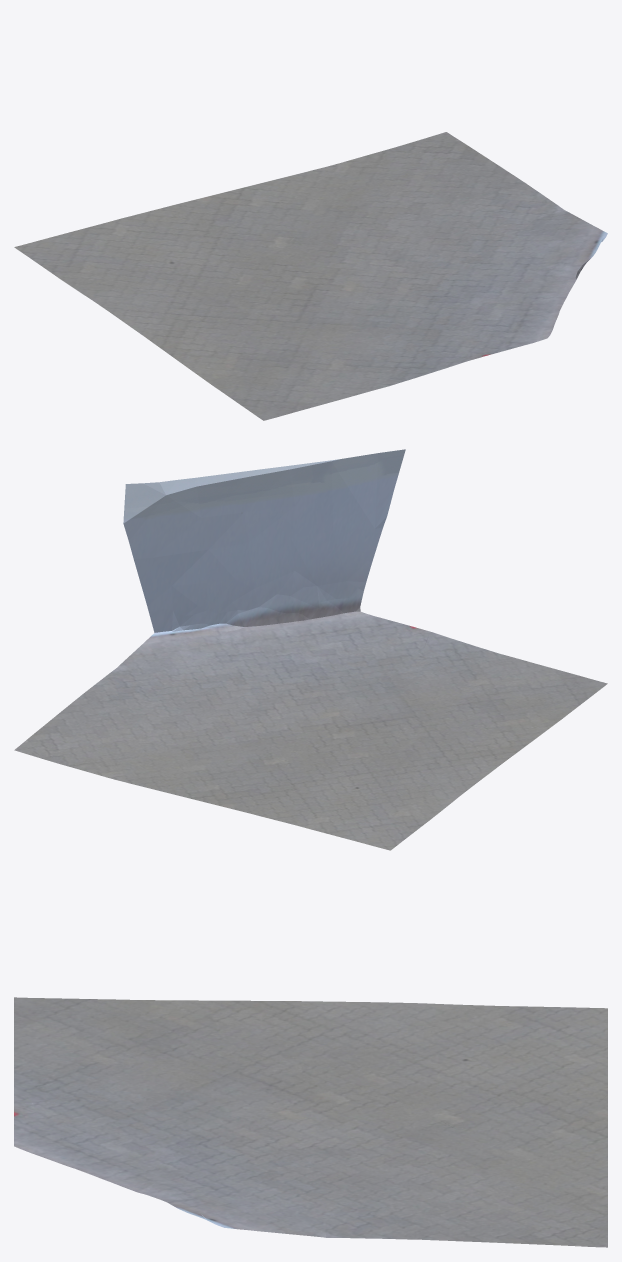
3 renders of one model, top to bottom at view 1: azimuth 30°, elevation 25°; view 2: azimuth 150°, elevation 25°; view 3: azimuth 270°, elevation 25°, orthographic. The views are drawn at different scales.
Bounding box in the file's own units: 4.18 × 2.05 × 4.18.
3 materials, 3 textured.
